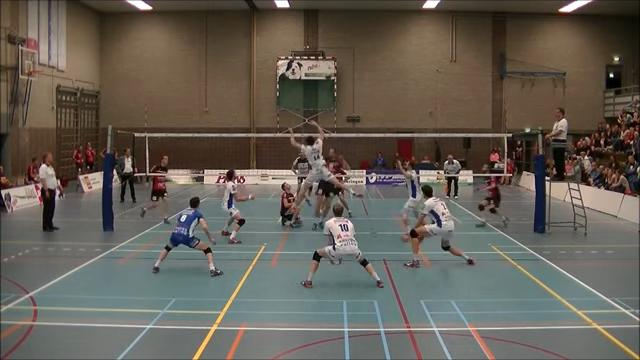muro: (285, 114, 367, 214)
